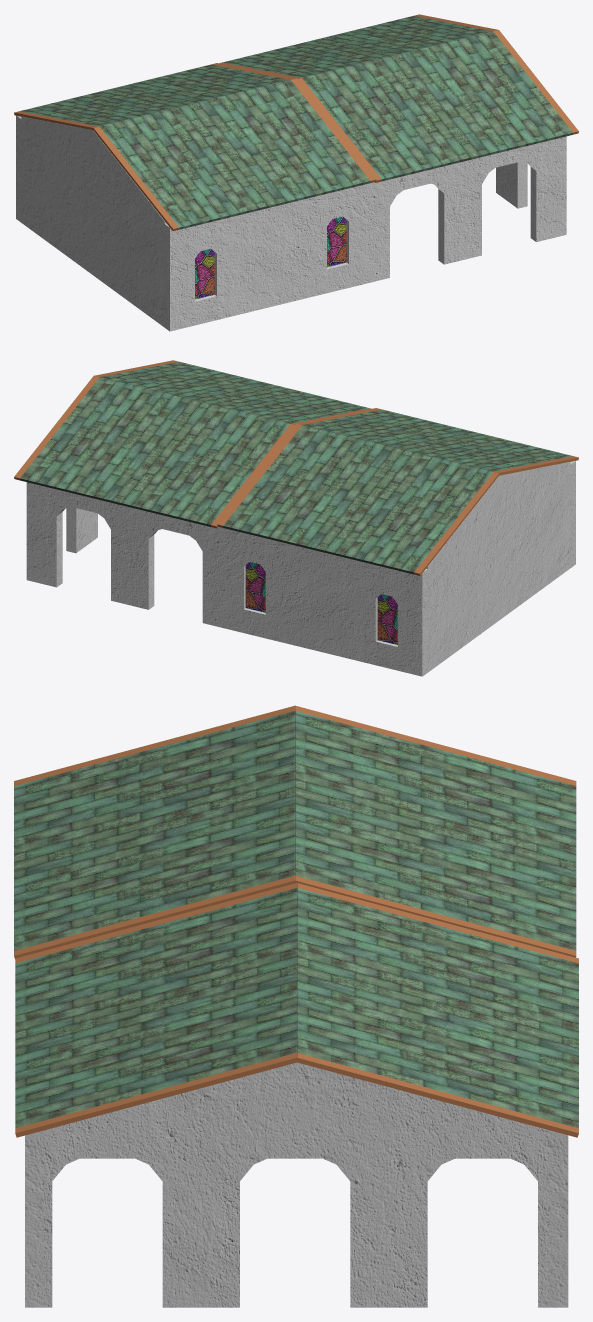
The model's file is Casa_Fazenda.fbx.
3 renders of one model, top to bottom at view 1: azimuth 30°, elevation 25°; view 2: azimuth 150°, elevation 25°; view 3: azimuth 270°, elevation 25°, orthographic. The views are drawn at different scales.
Visible parts, largest first — view 1: Parede.002, Teto_Calhas.003, Teto_Calhas.001, Parede.003, Teto_Calhas.002, Teto_Calhas, Vitral, Parede.008, Parede.001; view 2: Parede.001, Teto_Calhas.002, Teto_Calhas, Parede.003, Teto_Calhas.003, Teto_Calhas.001, Vitral.001, Parede.008, Parede.002; view 3: Parede.008, Teto_Calhas, Teto_Calhas.001, Teto_Calhas.003, Teto_Calhas.002, Parede.001, Parede.002.
Boxes of the visible parts, box(x1,y1,x2,y2) form: Parede.002: box(164, 136, 566, 331); Teto_Calhas.003: box(94, 78, 376, 231); Teto_Calhas.001: box(297, 30, 578, 182); Parede.003: box(21, 116, 166, 327); Teto_Calhas.002: box(14, 63, 296, 130); Teto_Calhas: box(219, 14, 498, 78); Vitral: box(195, 216, 346, 299); Parede.008: box(496, 161, 527, 208); Parede.001: box(16, 115, 21, 222); Parede.001: box(26, 482, 427, 676); Teto_Calhas.002: box(217, 423, 499, 575); Teto_Calhas: box(14, 376, 295, 528); Parede.003: box(426, 462, 570, 672); Teto_Calhas.003: box(297, 408, 578, 475); Teto_Calhas.001: box(94, 360, 371, 424); Vitral.001: box(245, 562, 397, 644); Parede.008: box(66, 506, 97, 553); Parede.002: box(570, 461, 575, 567); Parede.008: box(44, 1062, 549, 1307); Teto_Calhas: box(296, 883, 578, 1137); Teto_Calhas.001: box(15, 883, 297, 1137); Teto_Calhas.003: box(14, 705, 295, 959); Teto_Calhas.002: box(293, 705, 576, 957); Parede.001: box(549, 1130, 568, 1307); Parede.002: box(25, 1130, 43, 1307).
Size of the model in its own units: 1165 by 405 by 795.
